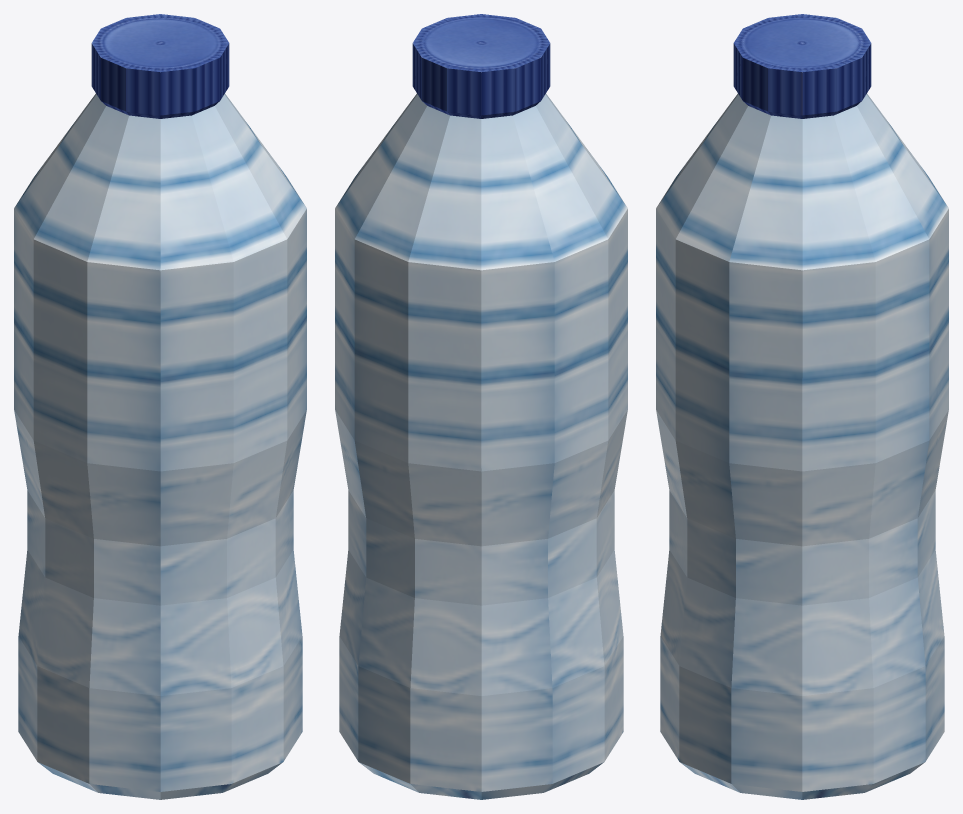
File: water_bottle.fbx
3 renders of one model, left to right at view 1: azimuth 30°, elevation 25°; view 2: azimuth 150°, elevation 25°; view 3: azimuth 270°, elevation 25°, orthographic.
Parts seen in each view (by area): view 1: water_bottle; view 2: water_bottle; view 3: water_bottle.
Boxes of the visible parts, left/top/right/bottom form: water_bottle: left=14, top=14, right=306, bottom=799; water_bottle: left=335, top=14, right=627, bottom=799; water_bottle: left=656, top=14, right=948, bottom=799.
Size of the model in its own units: 7.67 by 20.35 by 7.67.
